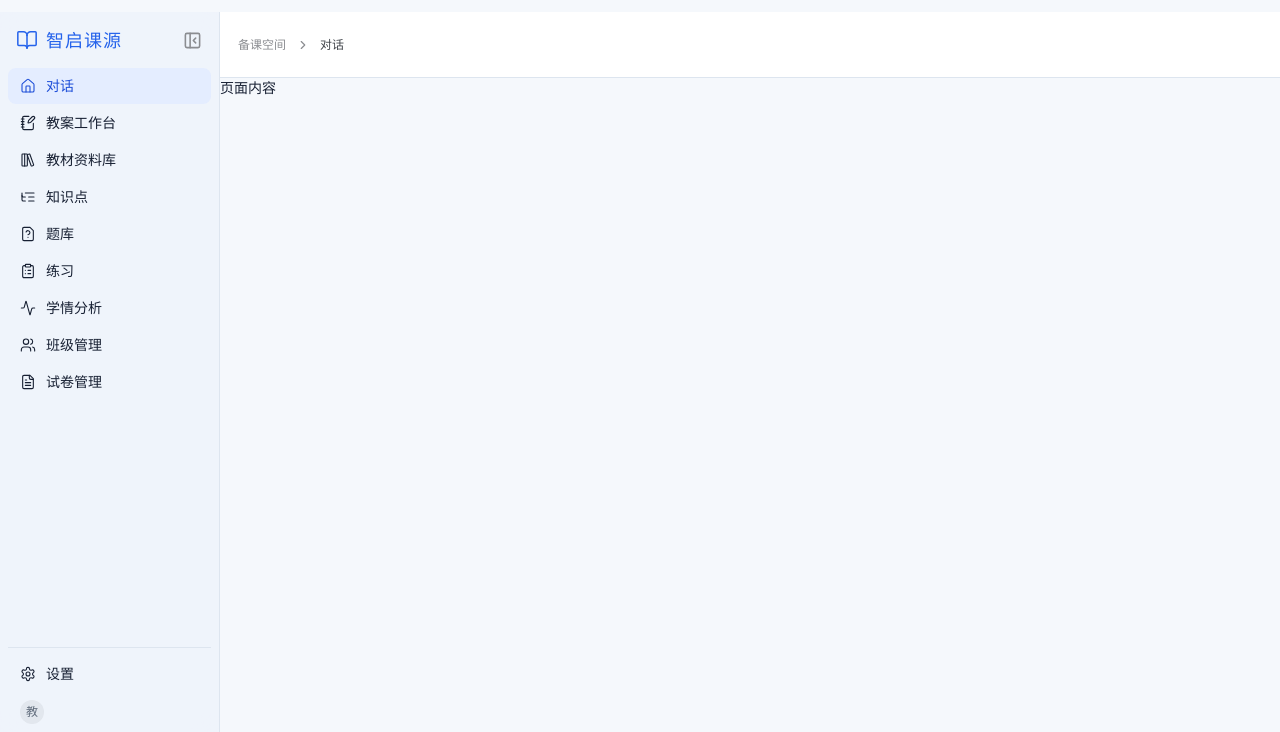
Test: WorkspaceShell 导航 › 展开项目导航后显示分组标题与完整标签
Click the button named "收起项目导航" at (192, 40), box [177,25,207,55]
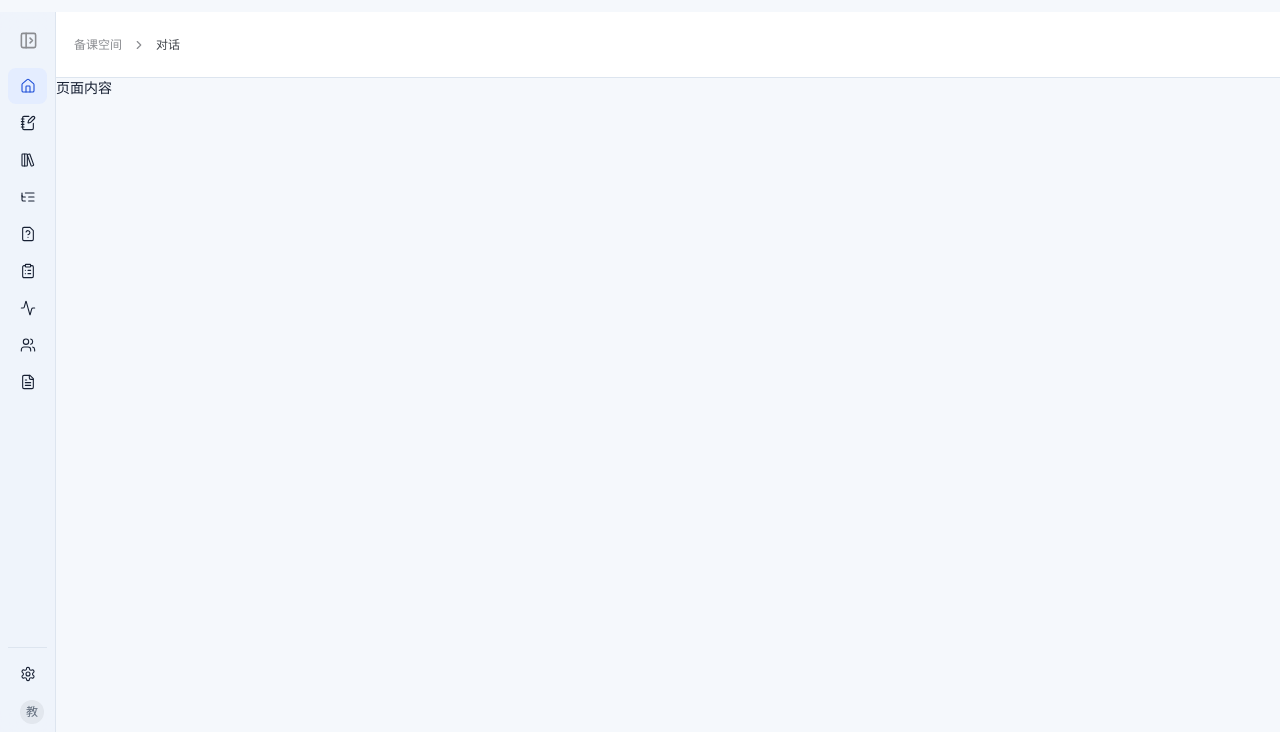
Click the button named "展开项目导航" at (28, 40), box [13,25,43,55]
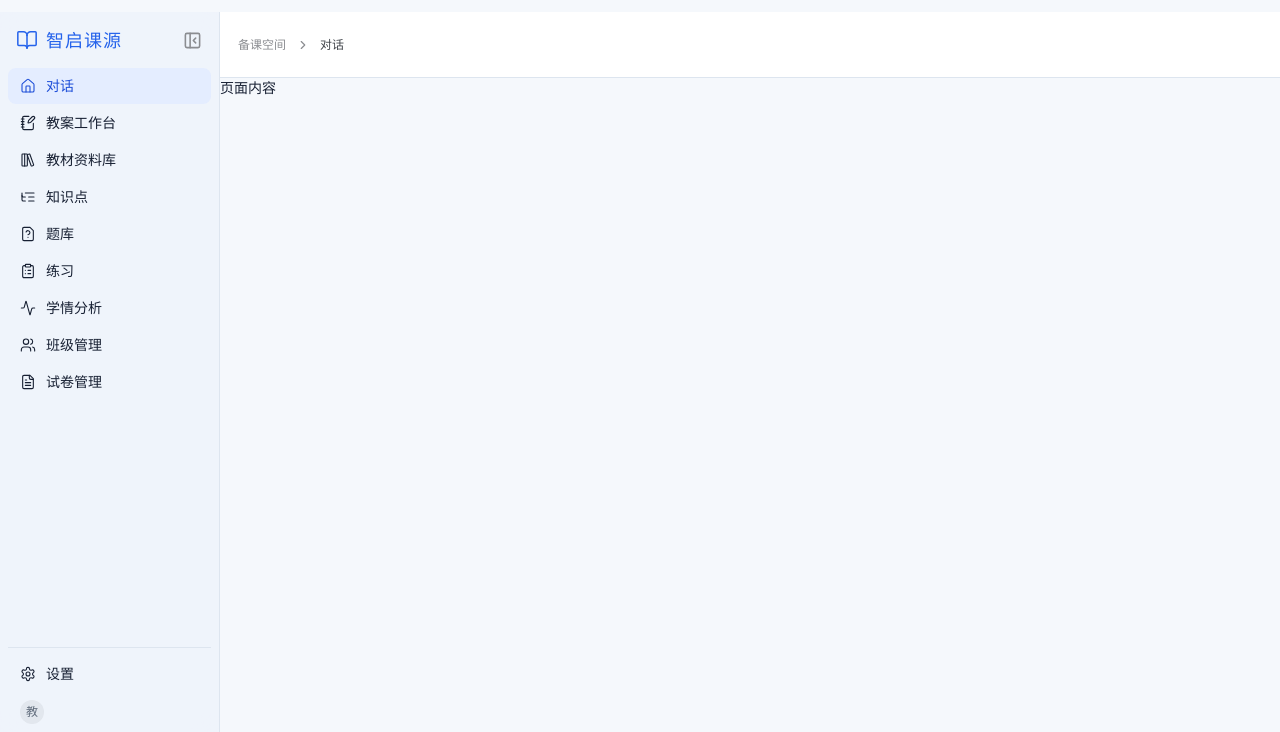
expect the button named "收起项目导航" is shown: met, box [177,25,207,55]
